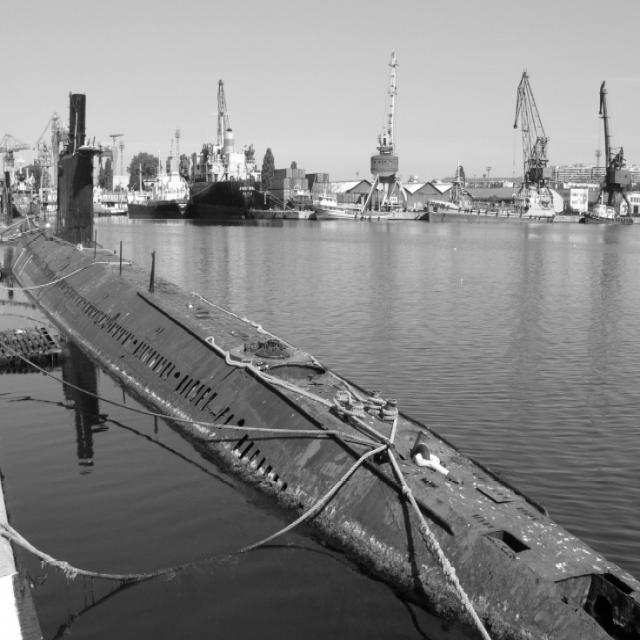submarine: (1, 83, 640, 640)
